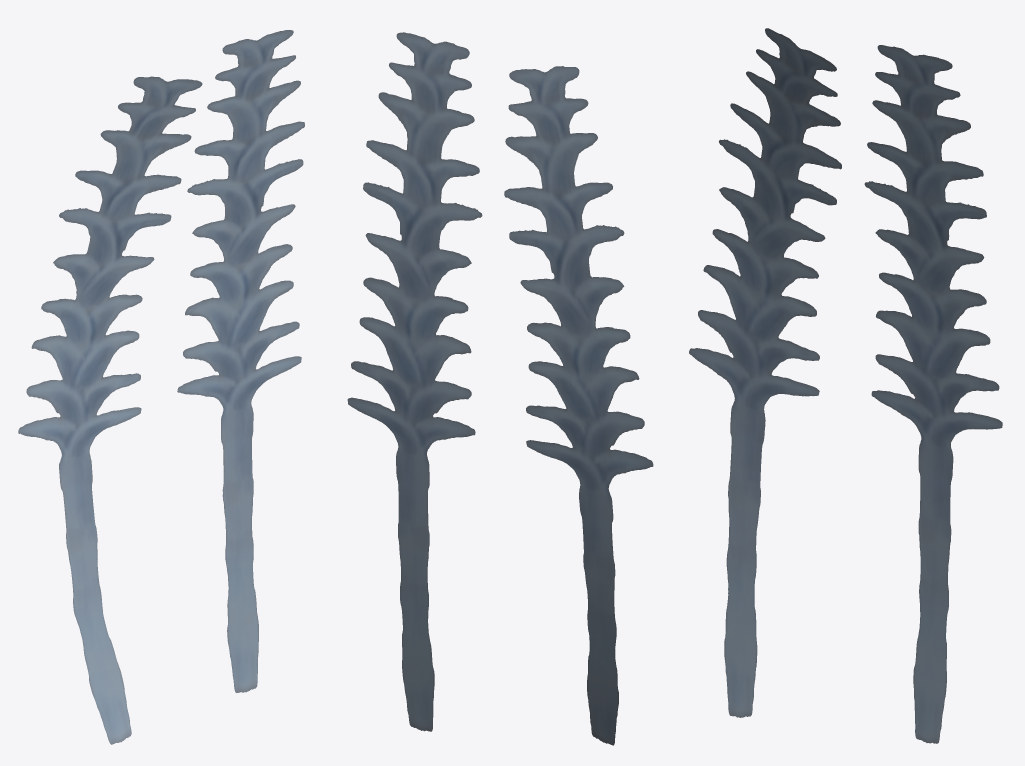
File: m blue ferns.fbx
3 renders of one model, left to right at view 1: azimuth 30°, elevation 25°; view 2: azimuth 150°, elevation 25°; view 3: azimuth 330°, elevation 25°, orthographic. The views are drawn at different scales.
Parts seen in each view (by area): view 1: polySurface36, polySurface35; view 2: polySurface35, polySurface36; view 3: polySurface35, polySurface36.
Part boxes in pixels (x1=…): polySurface36: x1=18, y1=76, x2=202, y2=744; polySurface35: x1=177, y1=30, x2=304, y2=692; polySurface35: x1=347, y1=32, x2=482, y2=731; polySurface36: x1=504, y1=66, x2=653, y2=745; polySurface35: x1=864, y1=45, x2=1002, y2=743; polySurface36: x1=689, y1=28, x2=841, y2=717.
Bounding box in the file's own units: 3.8 × 8.2 × 0.7735.
